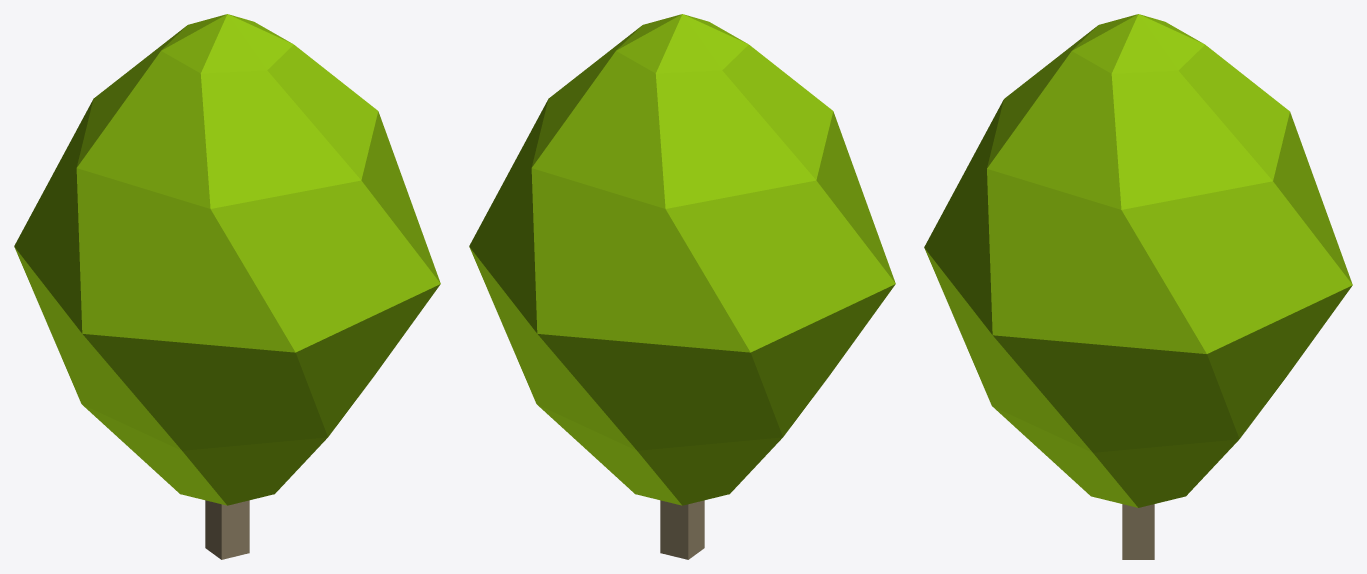
The model's file is tree_spheric_2.fbx.
3 views of the same model, side by side, from view 1: azimuth 30°, elevation 25°; view 2: azimuth 150°, elevation 25°; view 3: azimuth 270°, elevation 25° (orthographic).
Parts seen in each view (by area): view 1: tree_spheric_2; view 2: tree_spheric_2; view 3: tree_spheric_2.
Part boxes in pixels (x1,y1,x2,y2): tree_spheric_2: (14,14,440,559); tree_spheric_2: (469,14,895,559); tree_spheric_2: (924,14,1352,559).
Size of the model in its own units: 157 by 225 by 162.
